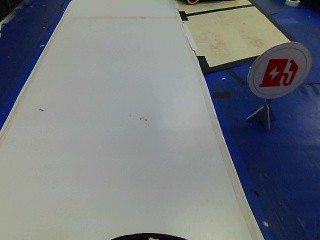battery: (246, 45, 312, 100)
